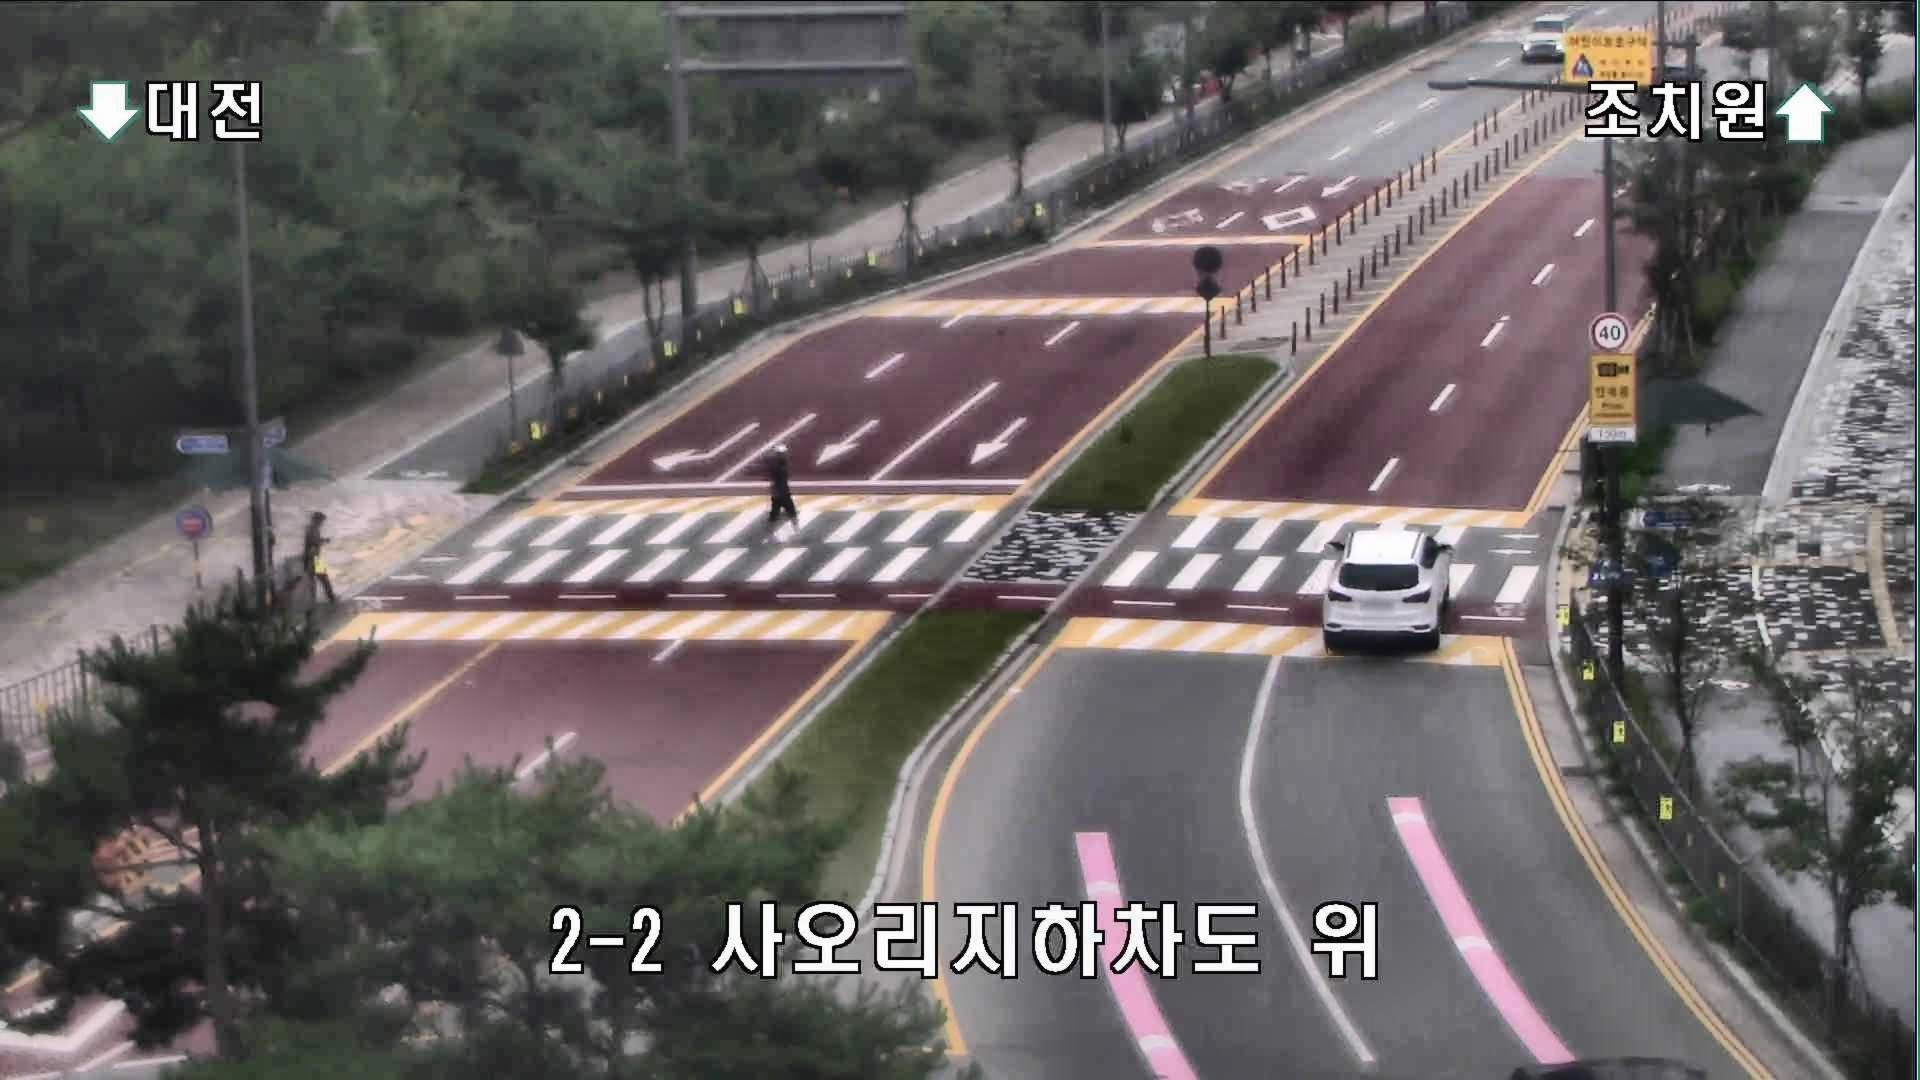crosswalk: (764, 442, 808, 545)
sidewalk: (298, 510, 338, 607)
